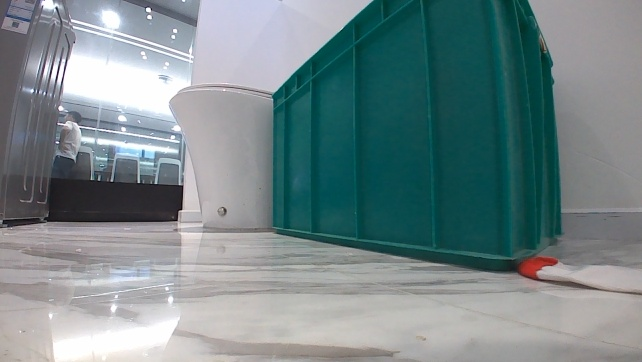socks: (516, 255, 641, 294)
toilet: (169, 82, 274, 231)
washing_machine1: (0, 0, 80, 229)
